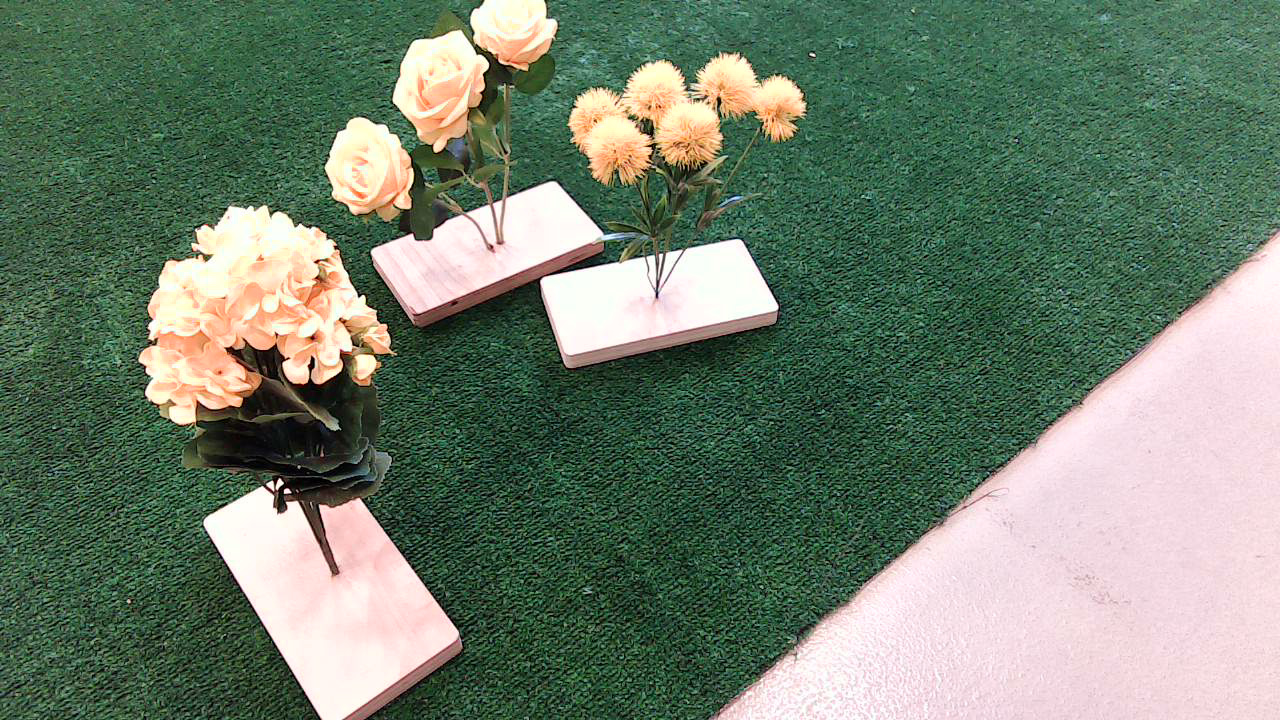dandelion: (567, 50, 817, 294)
geranium: (123, 205, 419, 518)
rose: (331, 4, 569, 219)
